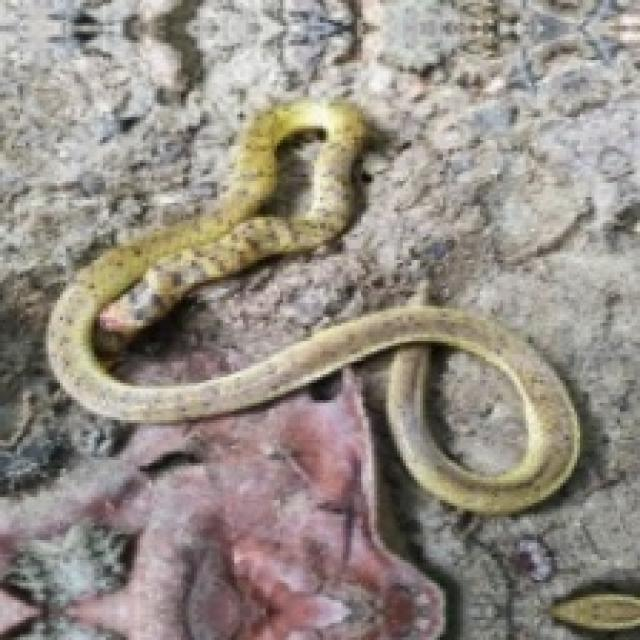luzon dwarf snake: (46, 100, 577, 511), (417, 343, 526, 474)
